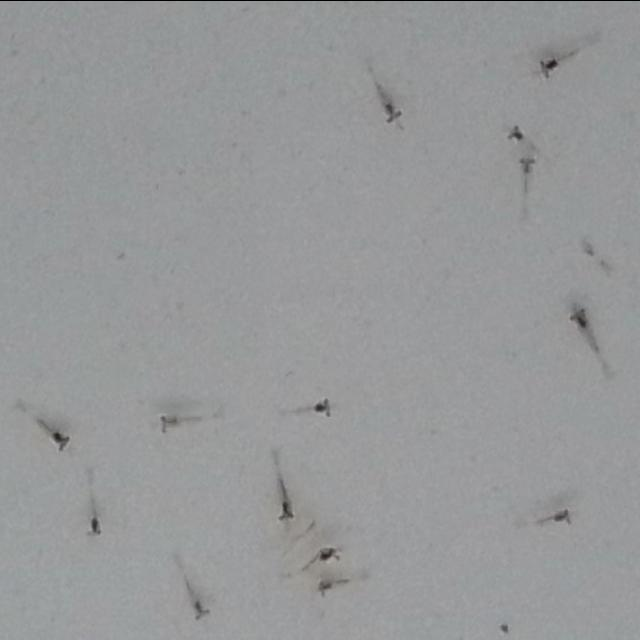shrimp-seed: (562, 303, 596, 347), (39, 416, 74, 456), (374, 84, 404, 130), (313, 572, 349, 602), (542, 503, 575, 531), (516, 153, 540, 191), (276, 494, 298, 532), (537, 54, 563, 82), (188, 594, 214, 622), (315, 542, 343, 566), (154, 411, 182, 435), (85, 509, 108, 538), (312, 396, 334, 422), (506, 122, 528, 146)
